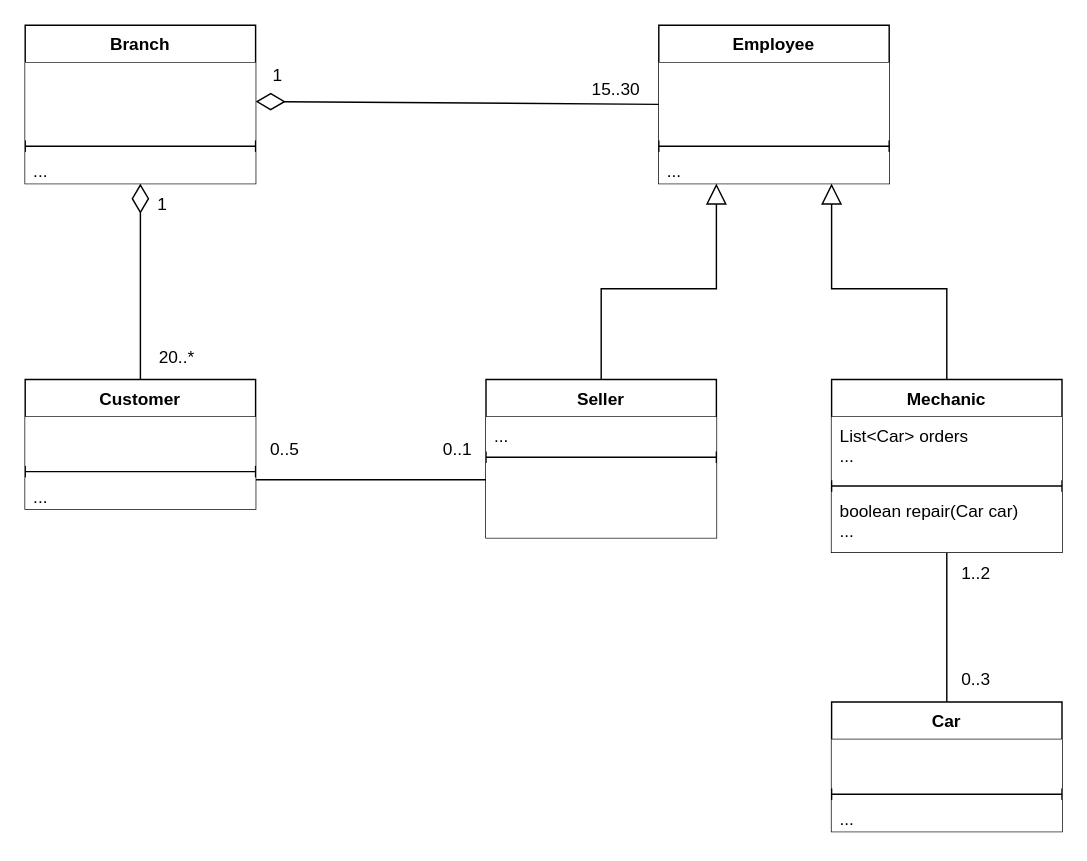
This 1087x861 diagram has some shape labels left out. The shapes that lost their labels are listed below. From the top down, each one's centre as x and y in pixels, then its label:
point 139,101: String address String managerName ...
point 773,101: String name int salary ...
point 139,440: int custNo ...
point 600,499: boolean sell() String advise() ...
point 946,763: int orderNo ...
